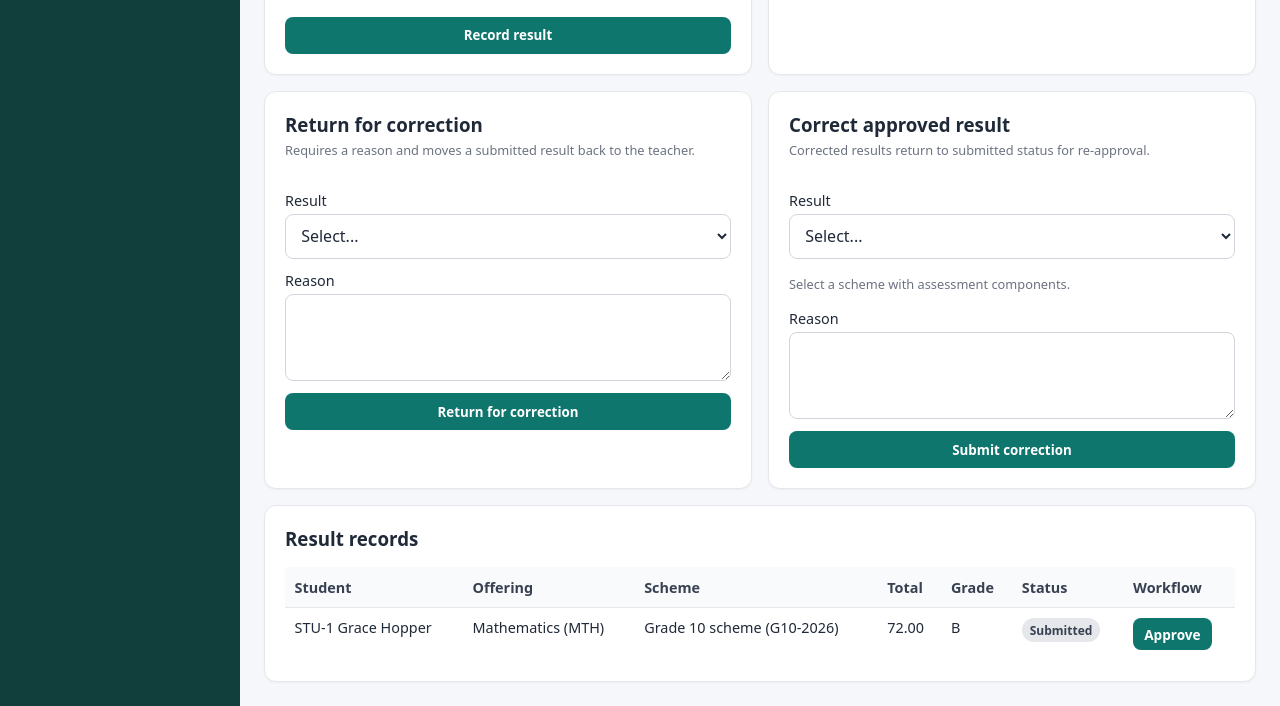
Scenario: workflows › approves and publishes a submitted result in the M4 workflow
The width and height of the screenshot is (1280, 706).
(page scrolled)
Click the button "Approve": (1172, 634) [1133,618,1212,650]
(page scrolled)
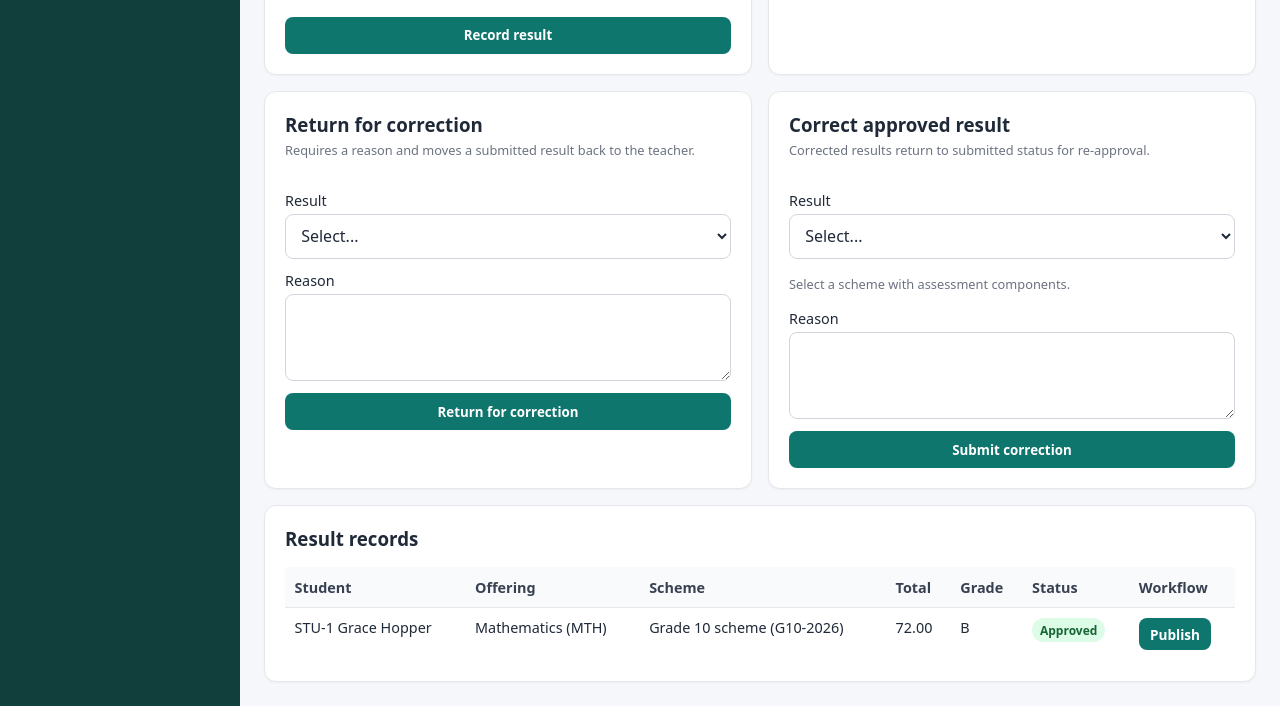
Click the button "Publish": (1175, 634) [1139,618,1211,650]
(page scrolled)
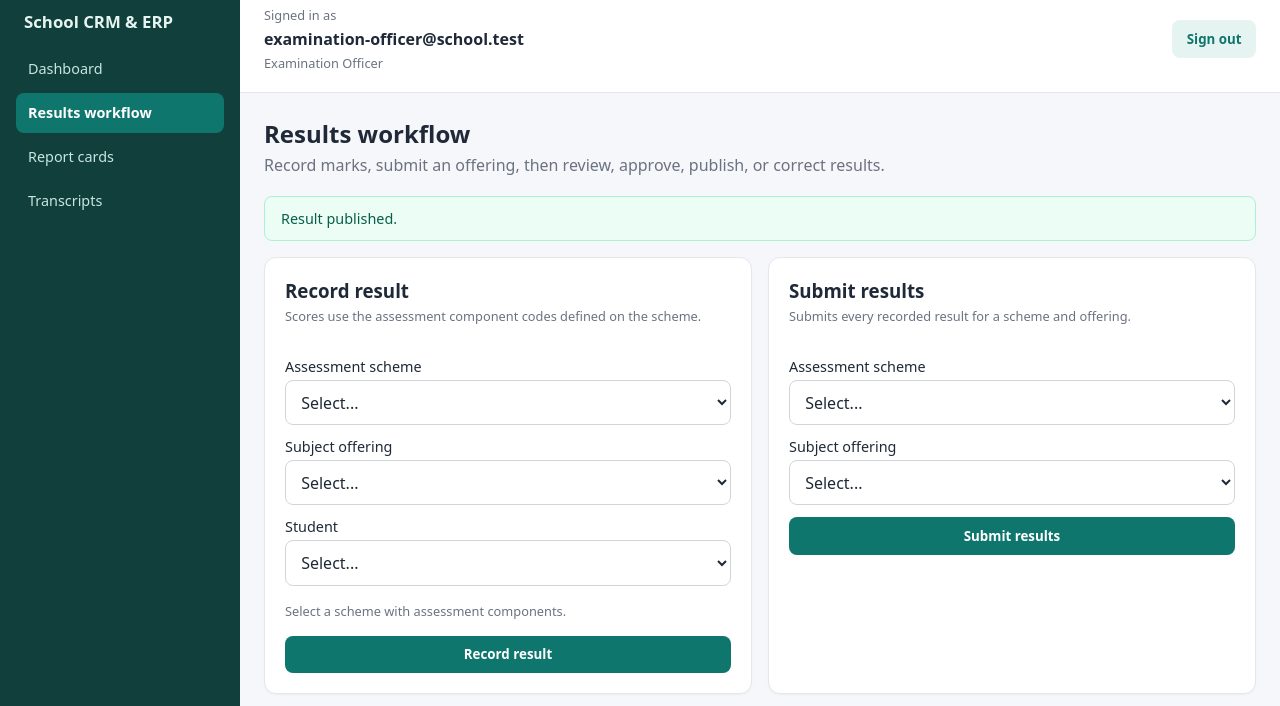
Result: the text "Result published." is shown at [264,196,1256,241]
